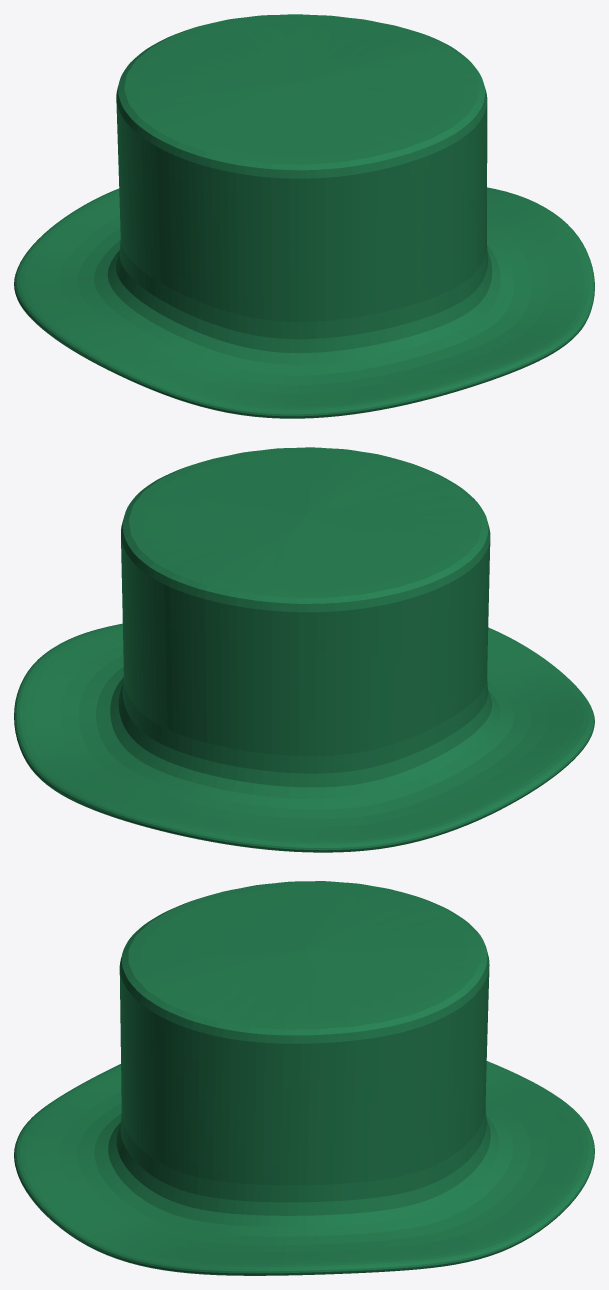
The model's file is Token3_New.fbx.
The picture shows the model from 3 angles, top to bottom: view 1: azimuth 30°, elevation 25°; view 2: azimuth 150°, elevation 25°; view 3: azimuth 270°, elevation 25°; orthographic projection.
Parts seen in each view (by area): view 1: top head.002; view 2: top head.002; view 3: top head.002.
Boxes of the visible parts, left/top/right/bottom form: top head.002: left=14, top=14, right=594, bottom=418; top head.002: left=14, top=447, right=594, bottom=852; top head.002: left=14, top=881, right=594, bottom=1275.
Size of the model in its own units: 3.76 by 3.77 by 1.55.
